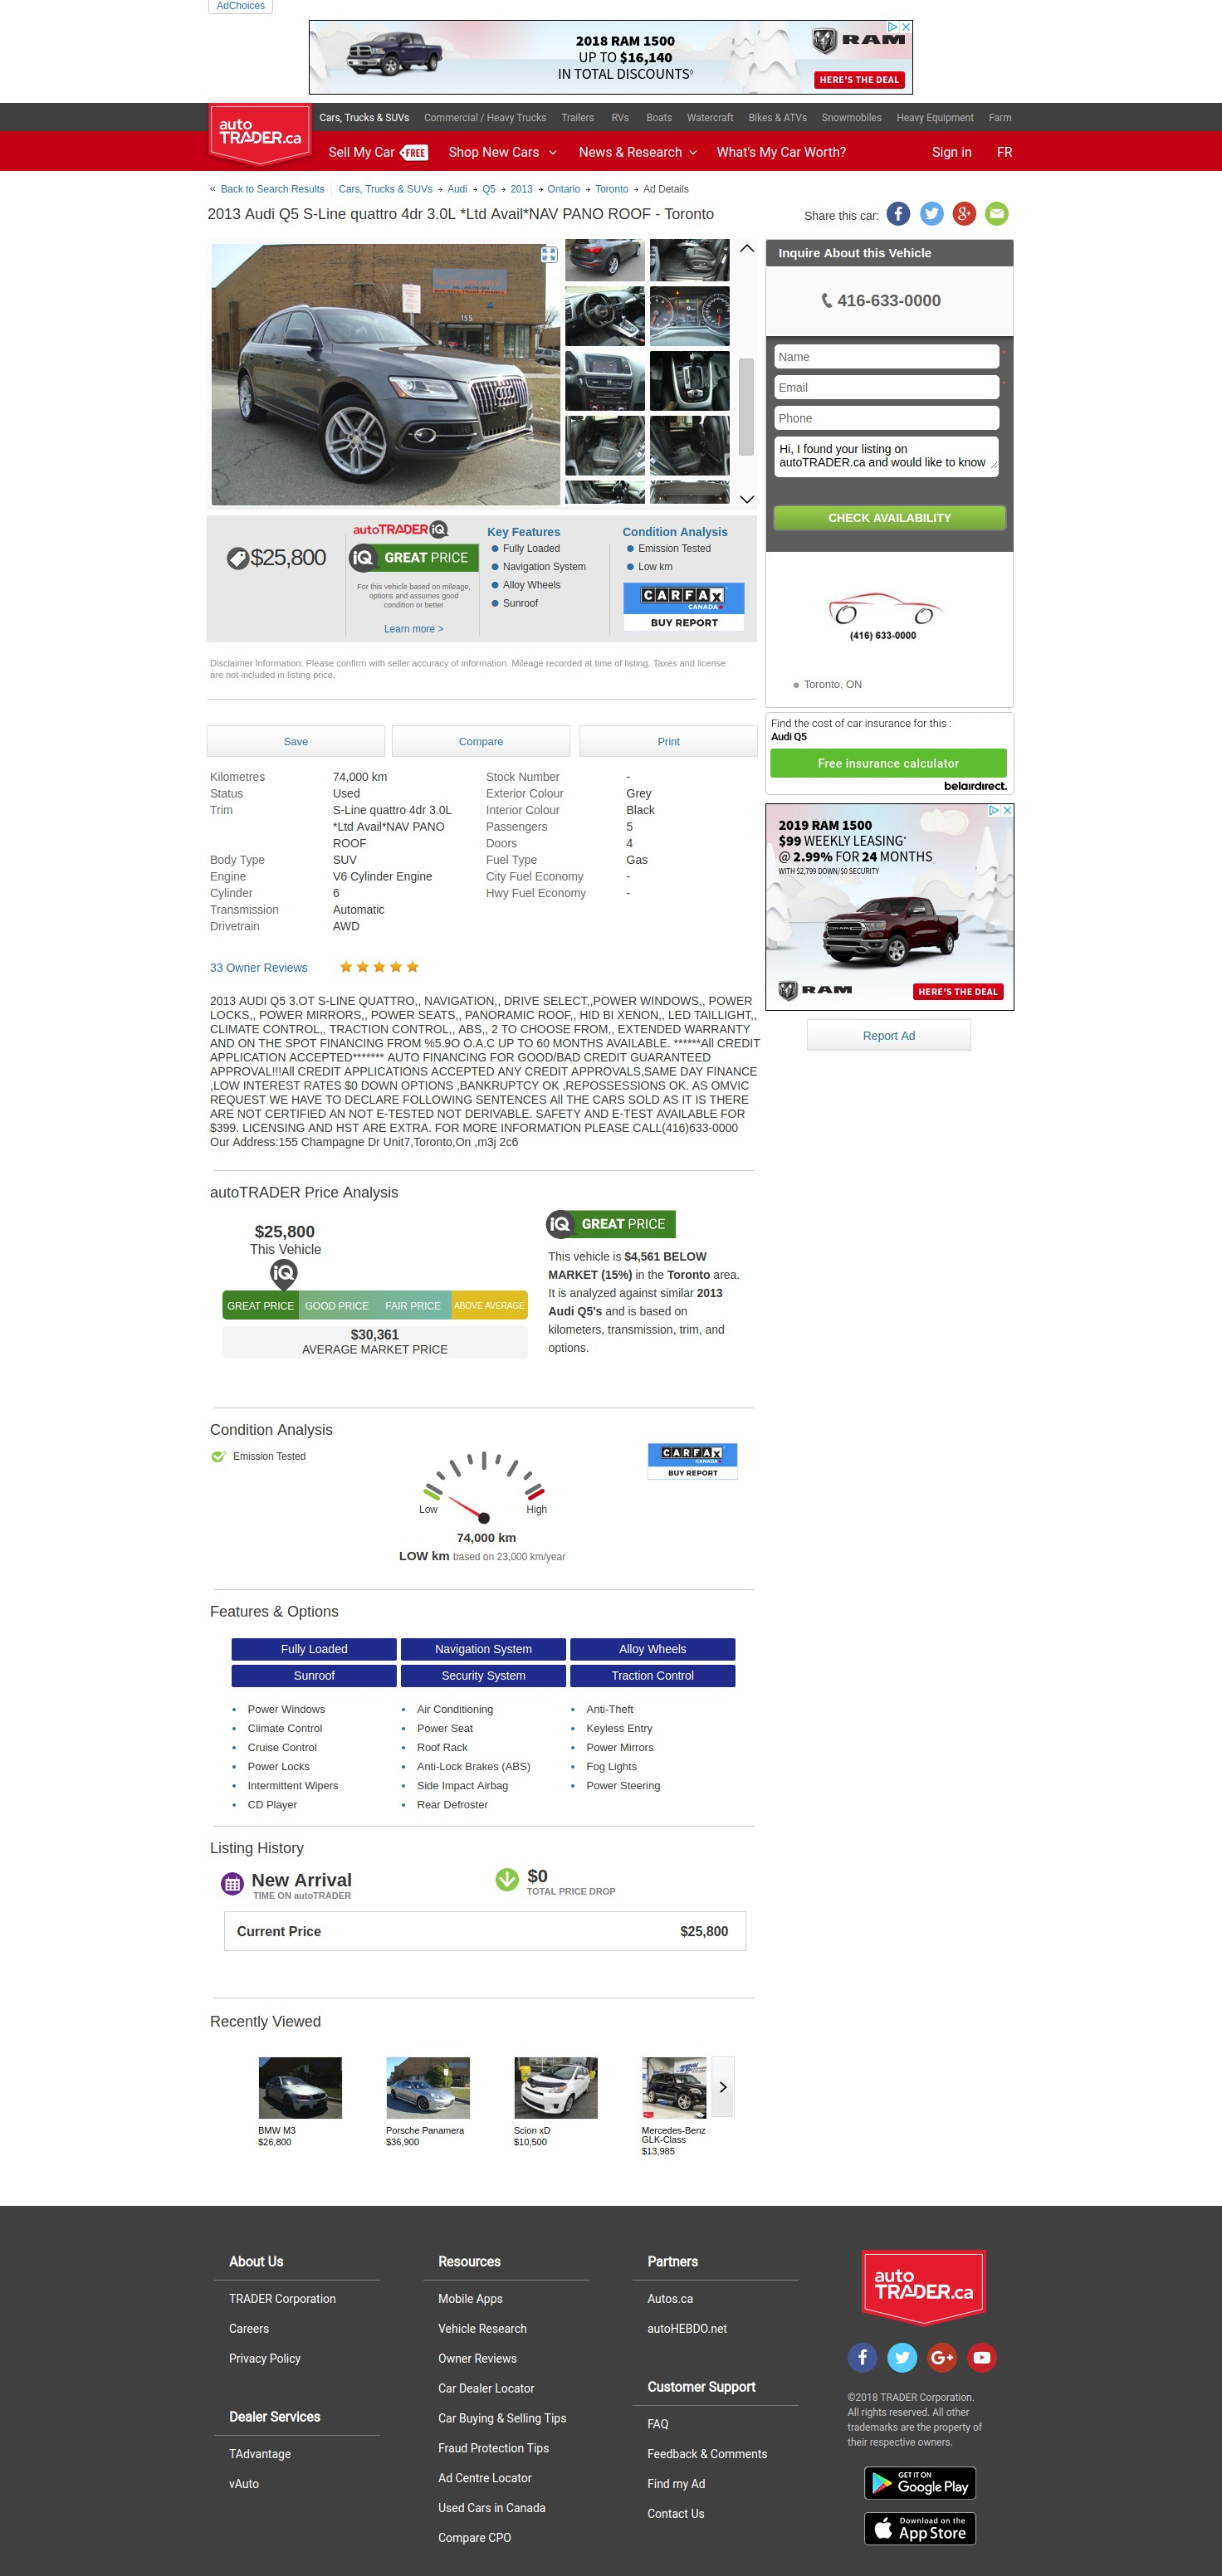car: (739, 493, 756, 506)
